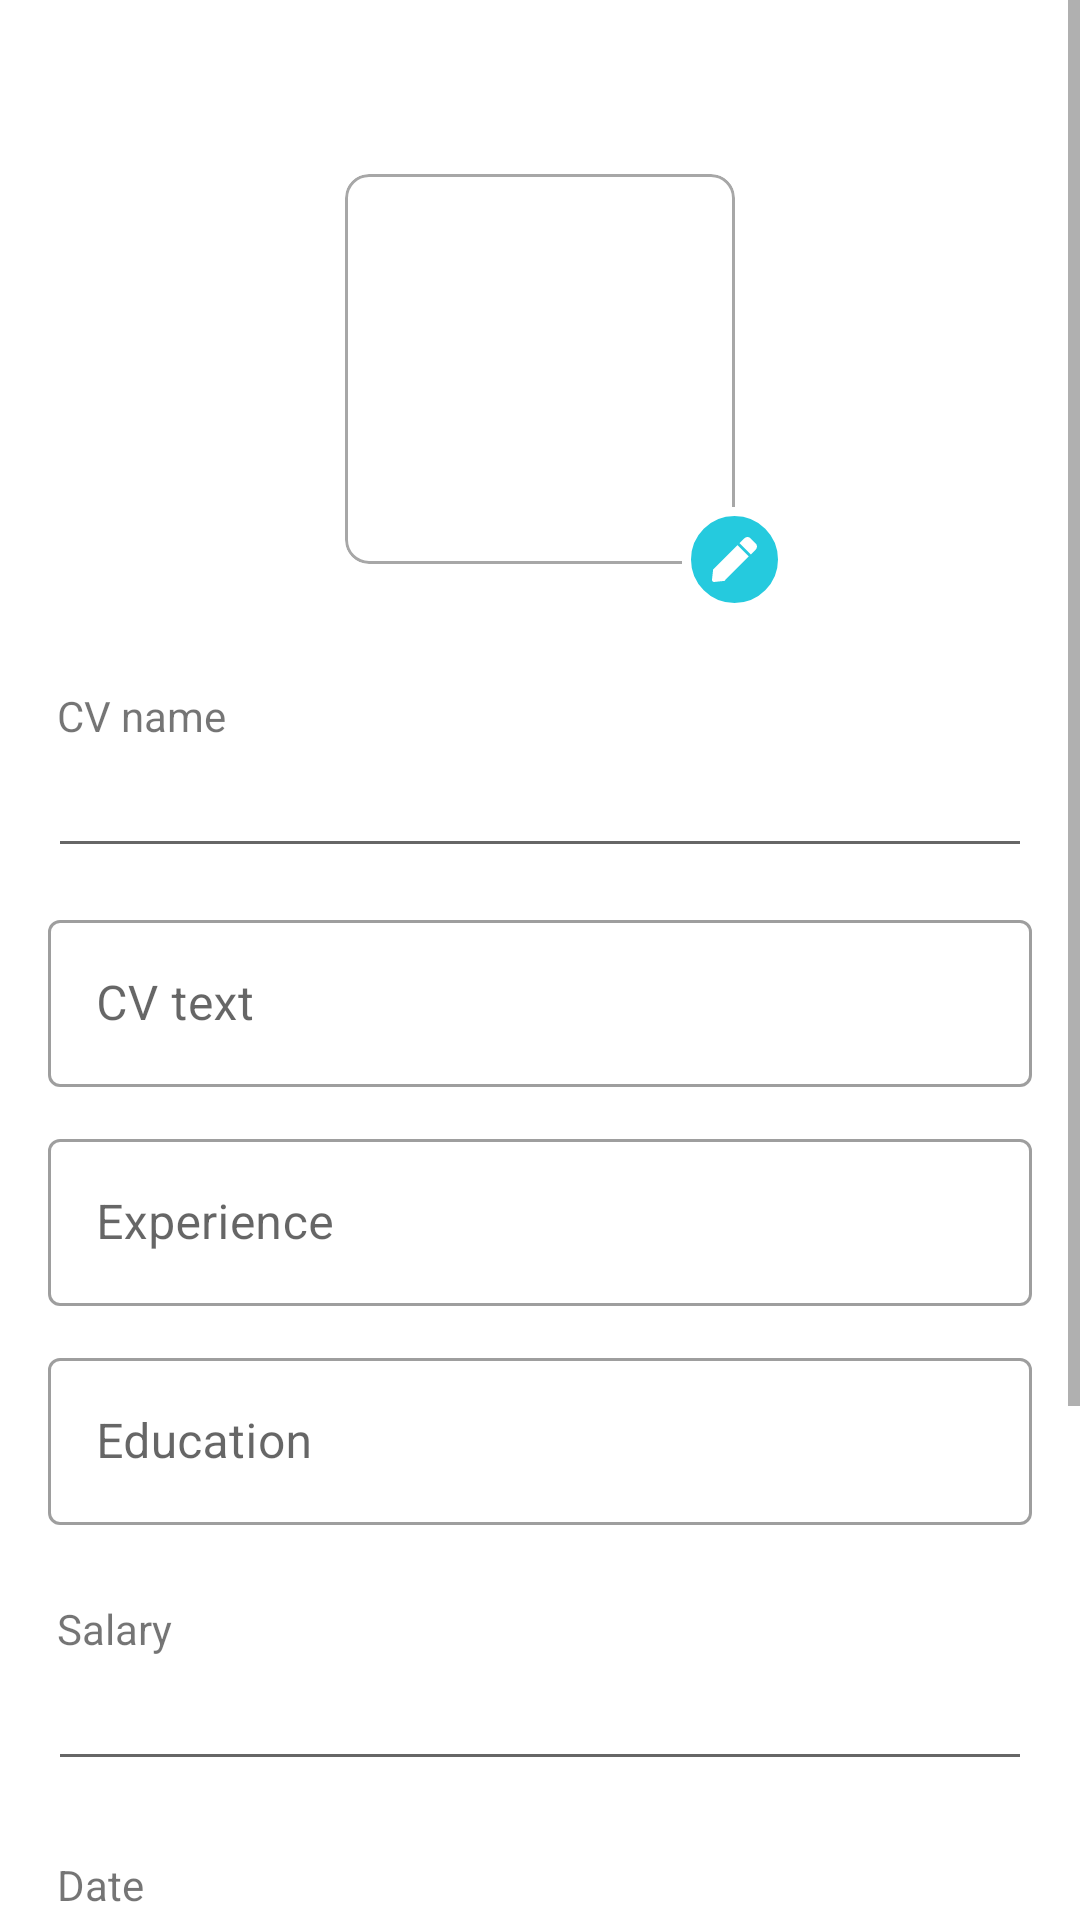

Where icons sit on this 1080 x 1920 app screen, as (x1, y1, x2, y2):
pencil: (691, 516, 778, 603)
